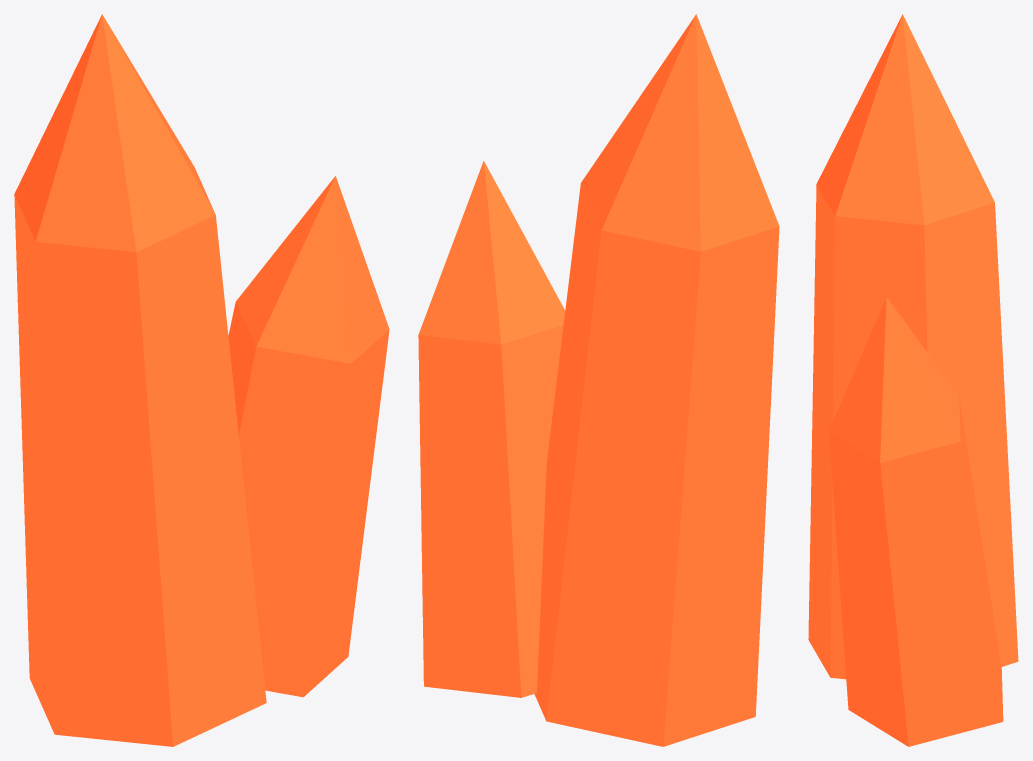
File: rubi.glb
3 renders of one model, left to right at view 1: azimuth 30°, elevation 25°; view 2: azimuth 150°, elevation 25°; view 3: azimuth 270°, elevation 25°, orthographic. The views are drawn at different scales.
Visible parts, largest first — view 1: GEM_11_RoughTwinCrystal; view 2: GEM_11_RoughTwinCrystal; view 3: GEM_11_RoughTwinCrystal.
Boxes of the visible parts, x1,y1,x2,y2 form: GEM_11_RoughTwinCrystal: (14, 14, 389, 746); GEM_11_RoughTwinCrystal: (418, 14, 779, 746); GEM_11_RoughTwinCrystal: (808, 14, 1018, 746).
Size of the model in its own units: 0.7104 by 1.37 by 0.417.
